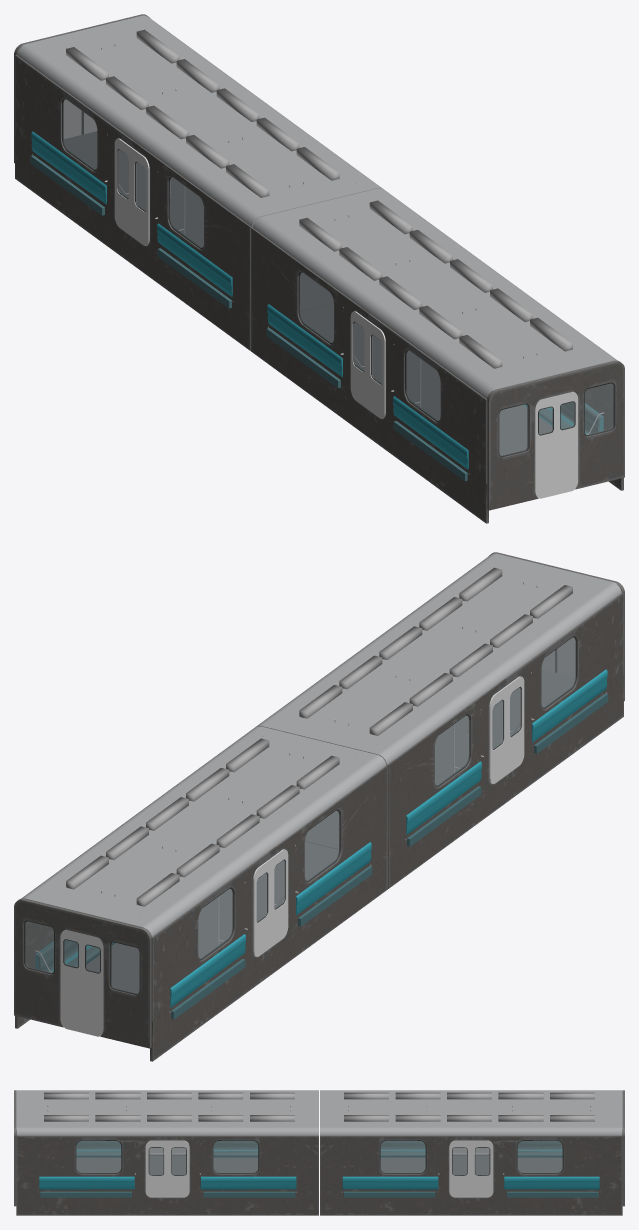
Rendered from train.glb.
The picture shows the model from 3 angles, top to bottom: view 1: azimuth 30°, elevation 25°; view 2: azimuth 150°, elevation 25°; view 3: azimuth 270°, elevation 25°; orthographic projection. The views are drawn at different scales.
Visible parts, largest first — view 1: m_Roof, m_Walls, m_Glass, m_Metal, m__none, m_Floor, m_Benchinside, m_Bench Under, m_Rubber, m_Bench; view 2: m_Roof, m_Walls, m_Glass, m_Metal, m__none, m_Floor, m_Benchinside, m_Bench Under, m_Rubber, m_Bench; view 3: m_Walls, m_Roof, m_Glass, m_Metal, m_Benchinside, m__none, m_Floor, m_Bench Under, m_Bench, m_Rubber.
Boxes of the visible parts, box(x1,y1,x2,y2) form: m_Roof: box(17, 15, 617, 398); m_Walls: box(14, 14, 624, 523); m_Glass: box(63, 99, 613, 455); m_Metal: box(66, 29, 572, 368); m__none: box(64, 99, 578, 498); m_Floor: box(64, 131, 552, 455); m_Benchinside: box(31, 131, 603, 469); m_Bench Under: box(30, 155, 467, 481); m_Rubber: box(62, 98, 614, 457); m_Bench: box(67, 149, 601, 433); m_Roof: box(21, 553, 621, 936); m_Walls: box(14, 552, 624, 1061); m_Glass: box(25, 637, 575, 993); m_Metal: box(66, 567, 572, 906); m__none: box(60, 637, 574, 1036); m_Floor: box(86, 669, 574, 993); m_Benchinside: box(35, 669, 607, 1007); m_Bench Under: box(171, 693, 608, 1019); m_Rubber: box(24, 636, 576, 995); m_Bench: box(37, 687, 571, 971); m_Walls: box(14, 1090, 624, 1215); m_Roof: box(16, 1090, 622, 1138); m_Glass: box(76, 1140, 562, 1175); m_Metal: box(44, 1092, 594, 1121); m_Benchinside: box(39, 1150, 599, 1189); m__none: box(145, 1140, 493, 1197); m_Floor: box(76, 1156, 562, 1175); m_Bench Under: box(40, 1191, 598, 1197); m_Bench: box(76, 1141, 562, 1155); m_Rubber: box(75, 1140, 563, 1175).
Size of the model in its own units: 4.22 by 3.89 by 24.22.
Materials: 13 (3 with a texture image).
